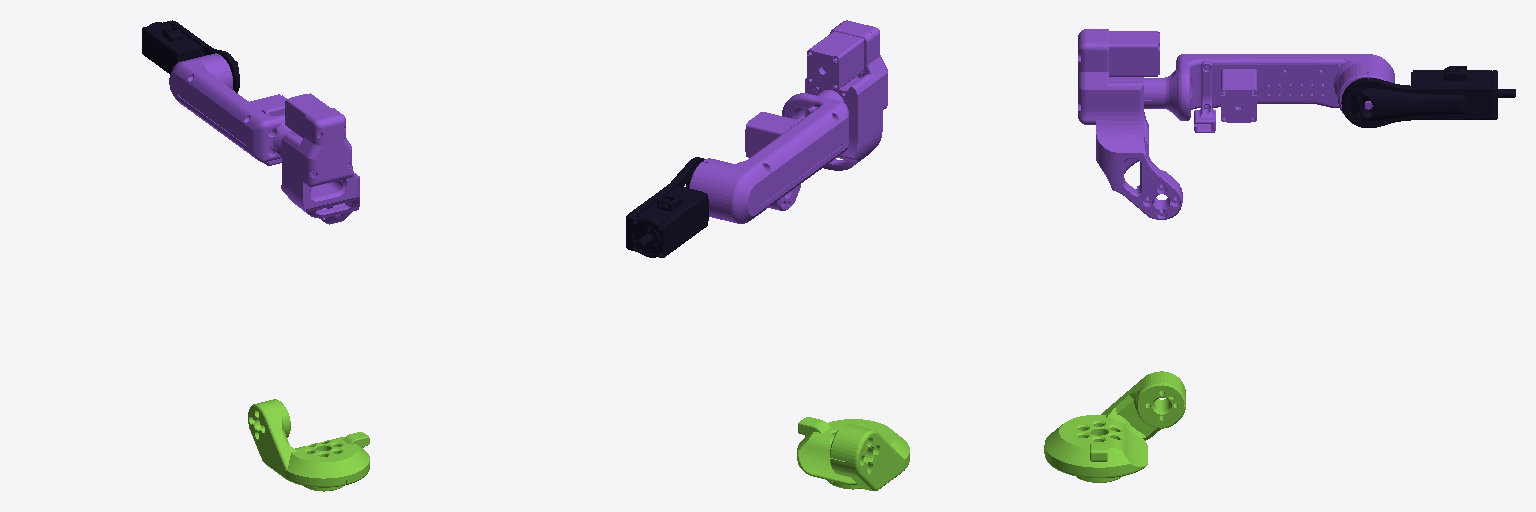
robot.urdf — R6DOF:
<?xml version="1.0"?>
<!-- created with Phobos 1.0.1 "Capricious Choutengan" -->
  <robot name="R6DOF">

    <link name="base">
      <!--inertial>
        <origin xyz="0 0 0" rpy="0 0 0"/>
        <mass value="1.5"/>
        <inertia ixx="0.004" ixy="0.00001" ixz="0.00001" iyy="0.002" iyz="0.00001" izz="0.002"/>
      </inertial-->
      <visual name="Base">
        <origin xyz="0 0 0" rpy="1.5708 0 0"/>
        <geometry>
          <mesh filename="package://test_pkg/meshes/dae/Base.dae" scale="1.0 1.0 1.0"/>
        </geometry>
        <material name="PurpleLight"/>
      </visual>
      <collision name="Base">
        <origin xyz="0 0 0" rpy="1.5708 0 0"/>
        <geometry>
          <mesh filename="package://test_pkg/meshes/dae/Base.001.dae" scale="1.0 1.0 1.0"/>
        </geometry>
      </collision>
    </link>

    <link name="link1">
      <inertial>
        <origin xyz="0 0 0" rpy="0 0 0"/>
        <mass value="0.409"/>
        <inertia ixx="0.000331170" ixy="0.000069107" ixz="0.000068367" iyy="0.000305580" iyz="-0.000083033" izz="0.000277064"/>
      </inertial>
      <visual name="Joint_1">
        <origin xyz="0 0 0" rpy="1.5708 0 0"/>
        <geometry>
          <mesh filename="package://test_pkg/meshes/dae/Joint_1.dae" scale="1.0 1.0 1.0"/>
        </geometry>
        <material name="GreenLight"/>
      </visual>
      <collision name="Joint_1">
        <origin xyz="0 0 0" rpy="1.5708 0 0"/>
        <geometry>
          <mesh filename="package://test_pkg/meshes/dae/Joint_1.001.dae" scale="1.0 1.0 1.0"/>
        </geometry>
      </collision>
    </link>

    <link name="link2">
      <inertial>
        <origin xyz="0 0 0" rpy="0 0 0"/>
        <mass value="1.431"/>
        <inertia ixx="0.012521185" ixy="-0.000170363" ixz="-0.000054839" iyy="0.001107608" iyz="-0.001443751" izz="0.012002504"/>
      </inertial>
      <visual name="Joint_2">
        <origin xyz="0 0 0" rpy="0 -1.5708 0"/>
        <geometry>
          <mesh filename="package://test_pkg/meshes/dae/Joint_2.001.dae" scale="1.0 1.0 1.0"/>
        </geometry>
        <material name="Orange"/>
      </visual>
      <collision name="Joint_2">
        <origin xyz="0 0 0" rpy="0 -1.5708 0"/>
        <geometry>
          <mesh filename="package://test_pkg/meshes/dae/Joint_2.002.dae" scale="1.0 1.0 1.0"/>
        </geometry>
      </collision>
    </link>

    <link name="link3">
      <inertial>
        <origin xyz="0 0 0" rpy="0 0 0"/>
        <mass value="0.364"/>
        <inertia ixx="0.000343371" ixy="0.000309313" ixz="-0.000234819" iyy="0.000816314" iyz="0.000119176" izz="0.000876475"/>
      </inertial>
      <visual name="Joint_3">
        <origin xyz="0 0 0" rpy="0 1.5708 0"/>
        <geometry>
          <mesh filename="package://test_pkg/meshes/dae/Joint_3.dae" scale="1.0 1.0 1.0"/>
        </geometry>
        <material name="PurpleLight"/>
      </visual>
      <collision name="Joint_3">
        <origin xyz="0 0 0" rpy="0 1.5708 0"/>
        <geometry>
          <mesh filename="package://test_pkg/meshes/dae/Joint_3.001.dae" scale="1.0 1.0 1.0"/>
        </geometry>
      </collision>
    </link>

    <link name="link4">
      <inertial>
        <origin xyz="0 0 0" rpy="0 0 0"/>
        <mass value="0.306"/>
        <inertia ixx="0.002165048" ixy="0.000001079" ixz="-0.000004449" iyy="0.002146461" iyz="0.000152053" izz="0.000061851"/>
      </inertial>
      <visual name="Joint_4">
        <origin xyz="0 0 0" rpy="0 3.14159 0"/>
        <geometry>
          <mesh filename="package://test_pkg/meshes/dae/Joint_4.dae" scale="1.0 1.0 1.0"/>
        </geometry>
        <material name="PurpleLight"/>
      </visual>
      <collision name="Joint_4">
        <origin xyz="0 0 0" rpy="0 3.14159 0"/>
        <geometry>
          <mesh filename="package://test_pkg/meshes/dae/Joint_4.001.dae" scale="1.0 1.0 1.0"/>
        </geometry>
      </collision>
    </link>

    <link name="link5">
      <inertial>
        <origin xyz="0 0 0" rpy="0 0 0"/>
        <mass value="0.105"/>
        <inertia ixx="0.000210398" ixy="-0.000000002" ixz="-0.000000002" iyy="0.000010629" iyz="-0.000009835" izz="0.000208610"/>
      </inertial>
      <visual name="Joint_5">
        <origin xyz="0 0 0" rpy="0 -1.5708 0"/>
        <geometry>
          <mesh filename="package://test_pkg/meshes/dae/Joint_5.dae" scale="1.0 1.0 1.0"/>
        </geometry>
        <material name="PurpleDark"/>
      </visual>
      <collision name="Joint_5">
        <origin xyz="0 0 0" rpy="0 -1.5708 0"/>
        <geometry>
          <mesh filename="package://test_pkg/meshes/dae/Joint_5.001.dae" scale="1.0 1.0 1.0"/>
        </geometry>
      </collision>
    </link>

    <link name="link6">
      <inertial>
        <origin xyz="0 0 0" rpy="0 0 0"/>
        <mass value="0.008"/>
        <inertia ixx="0.000000670" ixy="0.0" ixz="0.0" iyy="0.000000670" iyz="0.000000002" izz="0.000000179"/>
      </inertial>
      <visual name="Joint_6">
        <origin xyz="0 0 0" rpy="0 3.14159 0"/>
        <geometry>
          <mesh filename="package://test_pkg/meshes/dae/Joint_6.dae" scale="0.25 0.25 0.25"/>
        </geometry>
        <material name="GreenLight"/>
      </visual>
      <collision name="Joint_6">
        <origin xyz="0 0 0" rpy="0 3.14159 0"/>
        <geometry>
          <mesh filename="package://test_pkg/meshes/dae/Joint_6.001.dae" scale="1.0 1.0 1.0"/>
        </geometry>
      </collision>
    </link>

    <joint name="link1" type="revolute">
      <origin xyz="0 0 0.076" rpy="0 0 0"/>
      <parent link="base"/>
      <child link="link1"/>
      <axis xyz="0 0 1.0"/>
      <limit lower="-3.14159" upper="3.14159" effort="3.5" velocity="52.35988"/>
    </joint>

    <joint name="link2" type="revolute">
      <origin xyz="-0.0125 0.035 0.035" rpy="1.5708 0 1.5708"/>
      <parent link="link1"/>
      <child link="link2"/>
      <axis xyz="0 0 1.0"/>
      <limit lower="-1.5708" upper="1.29154" effort="0.3" velocity="34.90659"/>
    </joint>

    <joint name="link3" type="revolute">
      <origin xyz="0 0.146 0.03265" rpy="0 3.14159 0"/>
      <parent link="link2"/>
      <child link="link3"/>
      <axis xyz="0 0 1.0"/>
      <limit lower="-0.73304" upper="1.5708" effort="0.17" velocity="26.17994"/>
    </joint>

    <joint name="link4" type="revolute">
      <origin xyz="0.012 0.052 0.02015" rpy="0 -1.5708 0"/>
      <parent link="link3"/>
      <child link="link4"/>
      <axis xyz="0 0 1.0"/>
      <limit lower="-3.14159" upper="3.14159" effort="0.4" velocity="2.61799"/>
    </joint>

    <joint name="link5" type="revolute">
      <origin xyz="-0.0068 0 0.127" rpy="0 -1.5708 0"/>
      <parent link="link4"/>
      <child link="link5"/>
      <axis xyz="0 0 1.0"/>
      <limit lower="-2.35619" upper="2.35619" effort="0.4" velocity="2.61799"/>
    </joint>

    <joint name="link6" type="revolute">
      <origin xyz="0.075 0 -0.0068" rpy="0 1.5708 0"/>
      <parent link="link5"/>
      <child link="link6"/>
      <axis xyz="0 0 1.0"/>
      <limit lower="-3.14159" upper="3.14159" effort="0.4" velocity="78.53982"/>
    </joint>

    <material name="GreenLight">
      <color rgba="0.5451 0.83137 0.31372 1.0"/>
    </material>

    <material name="Orange">
      <color rgba="0.97647 0.61569 0.32157 1.0"/>
    </material>

    <material name="PurpleDark">
      <color rgba="0.11372 0.10196 0.18431 1.0"/>
    </material>

    <material name="PurpleLight">
      <color rgba="0.58824 0.37255 0.83137 1.0"/>
    </material>

  </robot>

--- Render facts (derived) ---
Views: 3 orthographic renders of the robot side by side, from view 1: azimuth 30°, elevation 25°; view 2: azimuth 150°, elevation 25°; view 3: azimuth 270°, elevation 25°.
Model R6DOF with 7 links and 6 joints (6 revolute), rooted at base, posed all joints at 0.
Visible links, largest first — view 1: link3, link4, link1, link5; view 2: link4, link3, link1, link5; view 3: link4, link3, link1, link5.
Link boxes in pixels (bbox=[...]): link3: bbox=[281, 93, 359, 224]; link4: bbox=[169, 53, 297, 165]; link1: bbox=[248, 399, 369, 491]; link5: bbox=[142, 20, 239, 92]; link4: bbox=[689, 90, 848, 223]; link3: bbox=[769, 20, 887, 210]; link1: bbox=[797, 417, 909, 490]; link5: bbox=[626, 157, 708, 257]; link4: bbox=[1143, 54, 1394, 132]; link3: bbox=[1078, 29, 1182, 219]; link1: bbox=[1044, 371, 1185, 482]; link5: bbox=[1341, 66, 1515, 127].
Size in the robot's own frame: 0.0629 by 0.2625 by 0.2682 metres.
Meshes: 7 distinct files referenced, 4 mesh visuals loaded (4 Collada DAE); not drawn: 3 (reference not matched to a file when rendering).